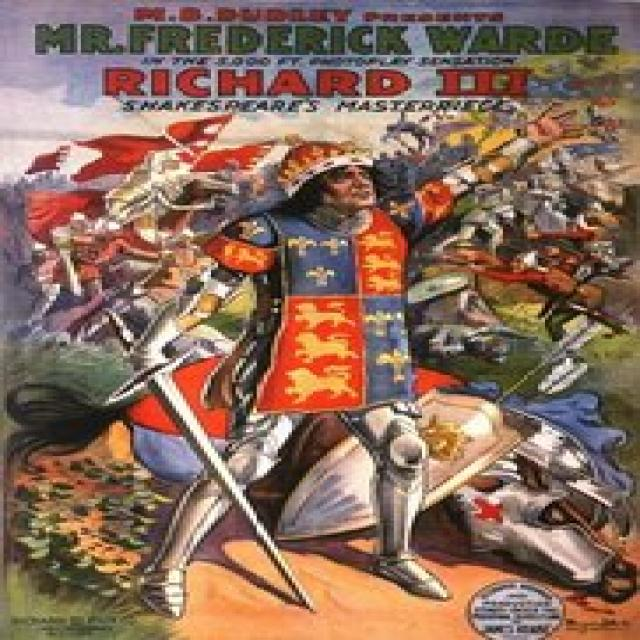movie-judul: (28, 20, 617, 101)
picture: (4, 109, 639, 640)
